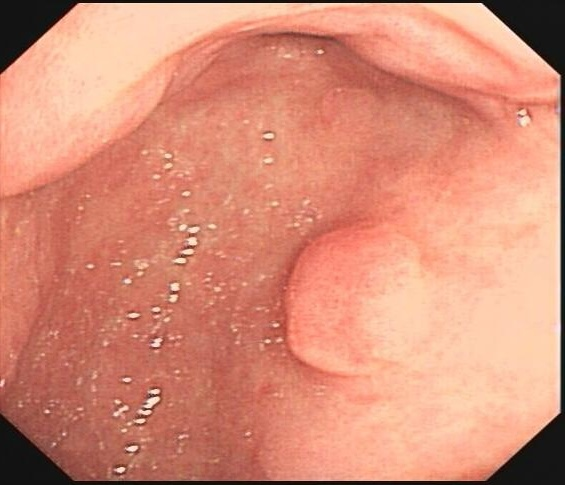Polyp: (283, 204, 433, 380)
